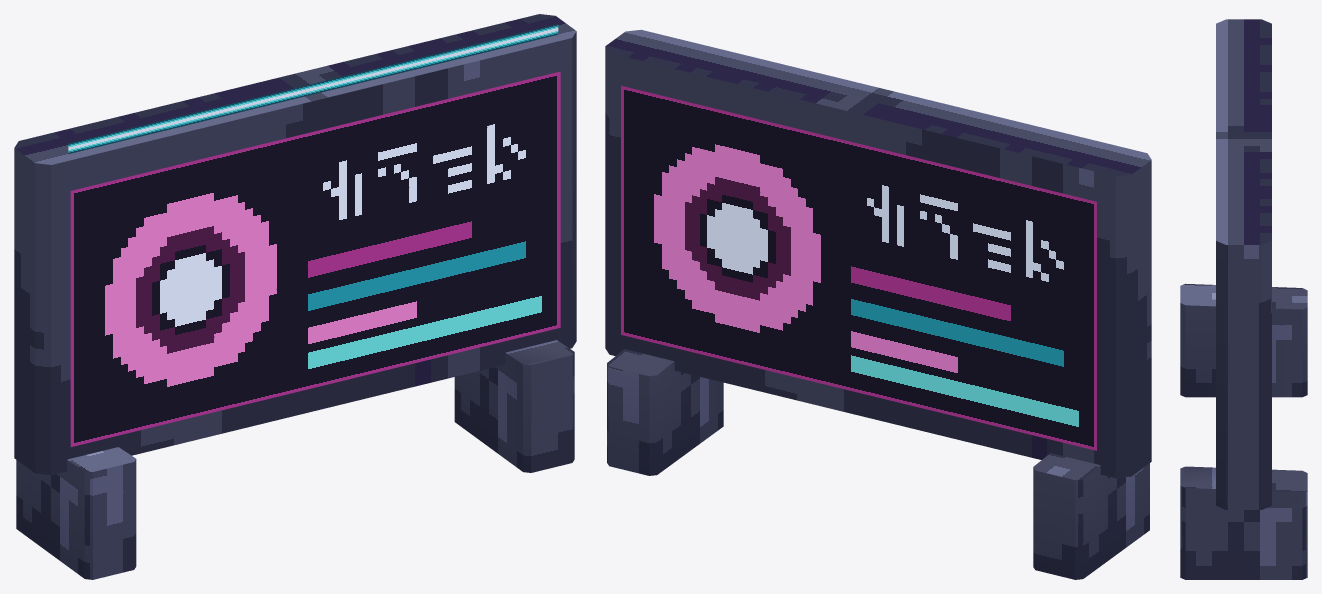
The model's file is cysign.adpanel.glb.
3 renders of one model, left to right at view 1: azimuth 30°, elevation 25°; view 2: azimuth 150°, elevation 25°; view 3: azimuth 270°, elevation 25°, orthographic. The views are drawn at different scales.
Parts seen in each view (by area): view 1: kit_card_faces, kit_frame; view 2: kit_card_faces, kit_frame; view 3: kit_frame.
Part boxes in pixels (x1,y1,x2,y2): kit_card_faces: [68, 24, 560, 446]; kit_frame: [14, 14, 576, 579]; kit_card_faces: [621, 85, 1096, 450]; kit_frame: [605, 29, 1151, 579]; kit_frame: [1180, 19, 1307, 579].
Size of the model in its own units: 2.1 by 1.57 by 0.5.
4 materials, 4 textured.
